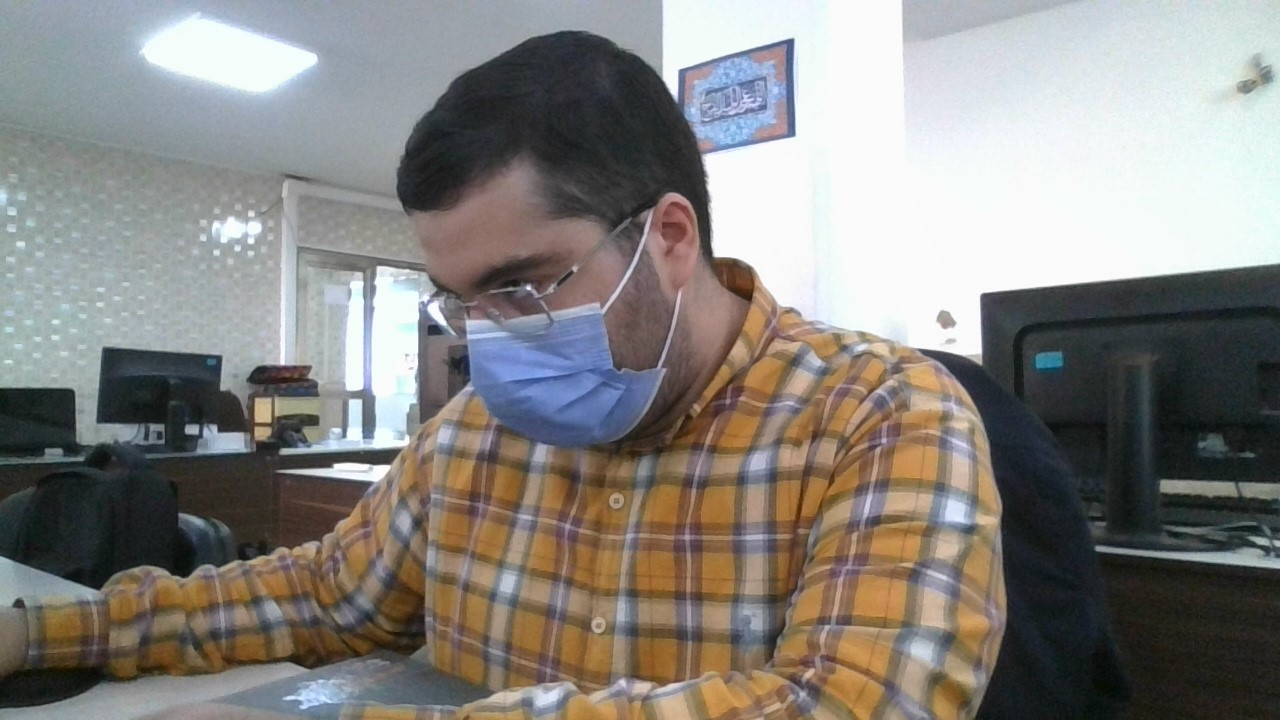Mask: (464, 301, 667, 448)
